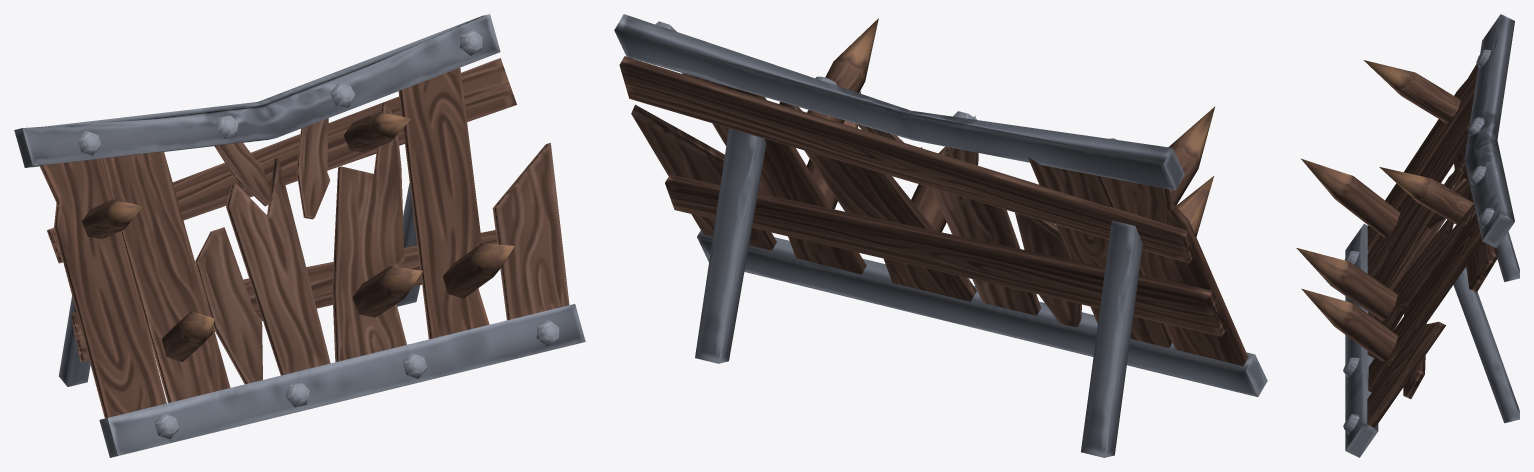
The model's file is env_BarricadeDamaged.fbx.
3 views of the same model, side by side, from view 1: azimuth 30°, elevation 25°; view 2: azimuth 150°, elevation 25°; view 3: azimuth 270°, elevation 25° (orthographic). The views are drawn at different scales.
Visible parts, largest first — view 1: env_BarricadeDamaged; view 2: env_BarricadeDamaged; view 3: env_BarricadeDamaged.
Boxes of the visible parts, x1,y1,x2,y2 form: env_BarricadeDamaged: [14, 14, 585, 457]; env_BarricadeDamaged: [614, 14, 1267, 457]; env_BarricadeDamaged: [1296, 14, 1519, 457].
Bounding box in the file's own units: 204 × 108 × 91.
